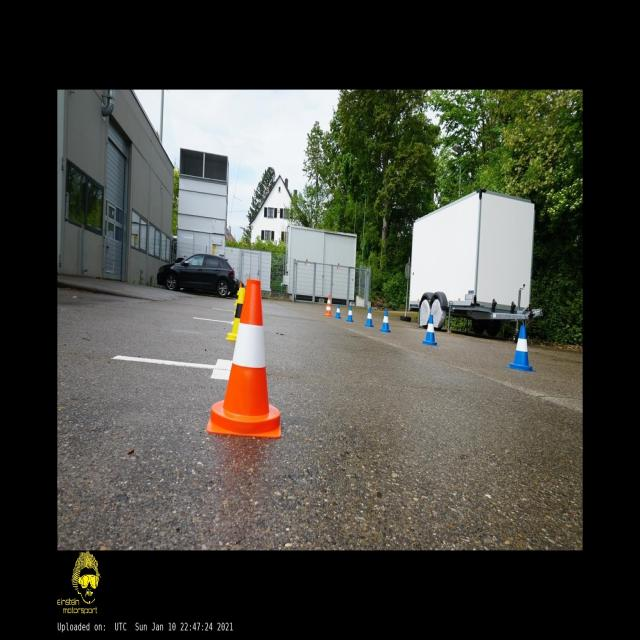blue_cone: (506, 326, 535, 371), (421, 315, 437, 345), (380, 309, 390, 332), (365, 308, 373, 327), (346, 306, 354, 321), (335, 304, 341, 318)
large_orange_cone: (324, 295, 332, 316)
orange_cone: (206, 279, 281, 439)
yellow_cone: (226, 287, 245, 341)
